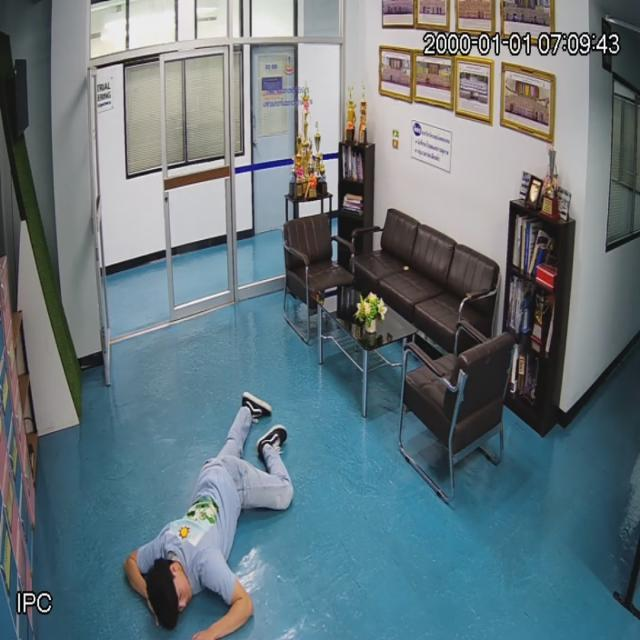fall: (131, 394, 291, 640)
